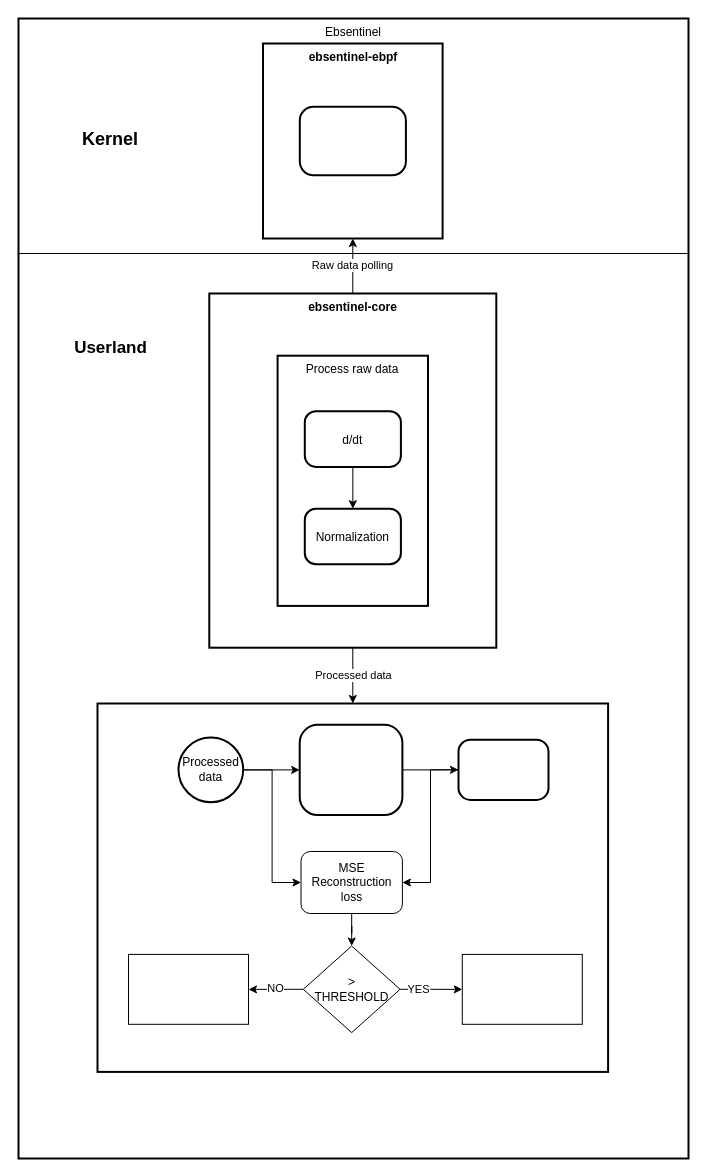
This 707x1176 diagram has some shape labels left out. Each missing label, with the centre of its shape:
Anomaly detected: the point at 521,988
Autoencoder: the point at 350,769
count syscalls: the point at 352,140
Normal process behaviour: the point at 188,988
Reconstruction: the point at 503,769
